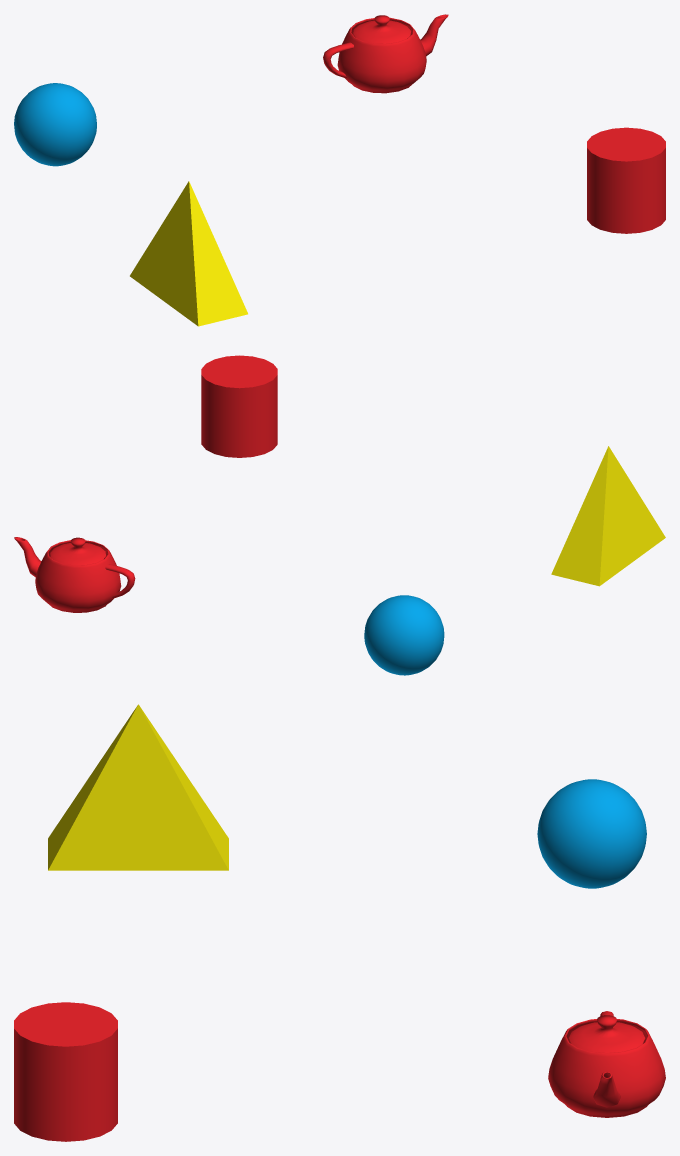
File: background2.FBX
3 views of the same model, one above another, from view 1: azimuth 30°, elevation 25°; view 2: azimuth 150°, elevation 25°; view 3: azimuth 270°, elevation 25° (orthographic). The views are drawn at different scales.
Parts seen in each view (by area): view 1: Pyramid001, Cylinder001, Teapot001, Sphere001; view 2: Pyramid001, Cylinder001, Teapot001, Sphere001; view 3: Pyramid001, Cylinder001, Sphere001, Teapot001.
Part boxes in pixels (x1,y1,x2,y2): Pyramid001: (130, 181, 247, 326); Cylinder001: (587, 127, 665, 233); Teapot001: (323, 14, 448, 93); Sphere001: (14, 83, 96, 166); Pyramid001: (551, 446, 665, 586); Cylinder001: (201, 355, 277, 457); Teapot001: (14, 537, 135, 612); Sphere001: (364, 595, 444, 675); Pyramid001: (48, 704, 228, 870); Cylinder001: (14, 1002, 117, 1141); Sphere001: (537, 779, 646, 888); Teapot001: (548, 1011, 665, 1117).
Bounding box in the file's own units: 680 × 621 × 168.
4 materials, 4 textured.
